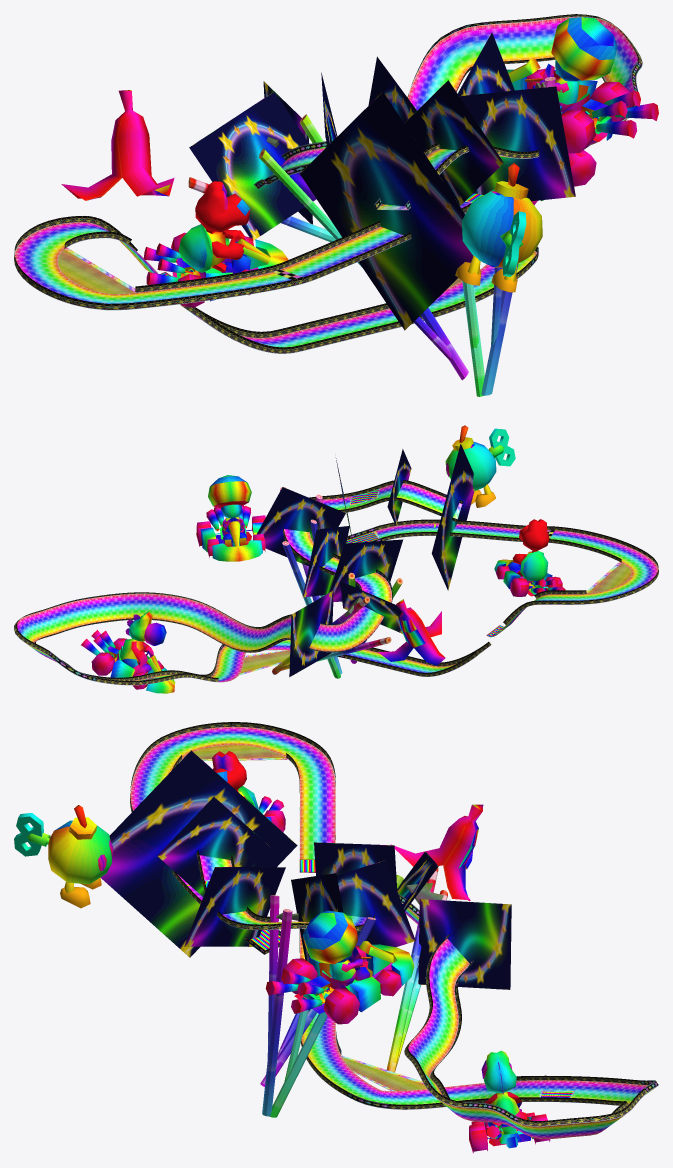
The picture shows the model from 3 angles, top to bottom: view 1: azimuth 30°, elevation 25°; view 2: azimuth 150°, elevation 25°; view 3: azimuth 270°, elevation 25°; orthographic projection. The views are drawn at different scales.
Visible parts, largest first — view 1: Plane.004_Plane.004_ring, Cube_Cube.001_road, Cube_Cube.001_saku, mb_ctk_kp.12_mb_ctk_kp.12_rbow, mb_ctn_nn2_mb_ctn_nn2_rbow, itemBombhei_ID12_itemBombhei_ID12_rbow, itemBanana_itemBanana_rbow, Cube_Cube.001_roadtransp, Cylinder.001_Cylinder.002_road, Cylinder.003_Cylinder.004_road, Cube.003_Cube.004_sand, Cylinder.002_Cylinder.003_road (+3 smaller); view 2: Plane.004_Plane.004_ring, Cube_Cube.001_road, Cube_Cube.001_saku, Cube_Cube.001_roadtransp, mb_ctk_kp.12_mb_ctk_kp.12_rbow, mb_cty.12_mb_cty.12_rbow, mb_ctn_nn2_mb_ctn_nn2_rbow, itemBombhei_ID12_itemBombhei_ID12_rbow, itemBanana_itemBanana_rbow, Cube_Cube.001_arrow, Cylinder_Cylinder_road, Cylinder.002_Cylinder.003_road (+2 smaller); view 3: Plane.004_Plane.004_ring, Cube_Cube.001_road, mb_ctk_kp.12_mb_ctk_kp.12_rbow, Cube_Cube.001_saku, itemBombhei_ID12_itemBombhei_ID12_rbow, Cube_Cube.001_roadtransp, mb_cty.12_mb_cty.12_rbow, Cylinder.003_Cylinder.004_road, itemBanana_itemBanana_rbow, Cylinder.002_Cylinder.003_road, Cylinder_Cylinder_road, mb_ctn_nn2_mb_ctn_nn2_rbow (+4 smaller).
Boxes of the visible parts, x1=… form: Plane.004_Plane.004_ring: x1=189, y1=32, x2=575, y2=330; Cube_Cube.001_road: x1=14, y1=16, x2=642, y2=353; Cube_Cube.001_saku: x1=14, y1=14, x2=642, y2=353; mb_ctk_kp.12_mb_ctk_kp.12_rbow: x1=507, y1=17, x2=658, y2=153; mb_ctn_nn2_mb_ctn_nn2_rbow: x1=143, y1=181, x2=288, y2=307; itemBombhei_ID12_itemBombhei_ID12_rbow: x1=455, y1=163, x2=542, y2=292; itemBanana_itemBanana_rbow: x1=61, y1=90, x2=174, y2=200; Cube_Cube.001_roadtransp: x1=43, y1=17, x2=569, y2=301; Cylinder.001_Cylinder.002_road: x1=259, y1=114, x2=468, y2=380; Cylinder.003_Cylinder.004_road: x1=481, y1=77, x2=555, y2=395; Cube.003_Cube.004_sand: x1=58, y1=249, x2=134, y2=294; Cylinder.002_Cylinder.003_road: x1=462, y1=213, x2=484, y2=396; Plane.004_Plane.004_ring: x1=257, y1=444, x2=474, y2=677; Cube_Cube.001_road: x1=14, y1=483, x2=658, y2=685; Cube_Cube.001_saku: x1=14, y1=480, x2=658, y2=685; Cube_Cube.001_roadtransp: x1=26, y1=523, x2=658, y2=662; mb_ctk_kp.12_mb_ctk_kp.12_rbow: x1=196, y1=475, x2=265, y2=561; mb_cty.12_mb_cty.12_rbow: x1=81, y1=611, x2=175, y2=693; mb_ctn_nn2_mb_ctn_nn2_rbow: x1=494, y1=519, x2=565, y2=596; itemBombhei_ID12_itemBombhei_ID12_rbow: x1=445, y1=425, x2=515, y2=507; itemBanana_itemBanana_rbow: x1=378, y1=599, x2=445, y2=665; Cube_Cube.001_arrow: x1=48, y1=493, x2=463, y2=681; Cylinder_Cylinder_road: x1=272, y1=596, x2=391, y2=674; Cylinder.002_Cylinder.003_road: x1=282, y1=519, x2=340, y2=678; Plane.004_Plane.004_ring: x1=100, y1=750, x2=511, y2=989; Cube_Cube.001_road: x1=130, y1=726, x2=658, y2=1138; mb_ctk_kp.12_mb_ctk_kp.12_rbow: x1=265, y1=910, x2=414, y2=1024; Cube_Cube.001_saku: x1=130, y1=722, x2=647, y2=1126; itemBombhei_ID12_itemBombhei_ID12_rbow: x1=14, y1=805, x2=113, y2=908; Cube_Cube.001_roadtransp: x1=178, y1=727, x2=625, y2=1132; mb_cty.12_mb_cty.12_rbow: x1=469, y1=1050, x2=550, y2=1153; Cylinder.003_Cylinder.004_road: x1=262, y1=895, x2=292, y2=1116; itemBanana_itemBanana_rbow: x1=390, y1=804, x2=483, y2=901; Cylinder.002_Cylinder.003_road: x1=269, y1=917, x2=376, y2=1117; Cylinder_Cylinder_road: x1=386, y1=868, x2=447, y2=1072; mb_ctn_nn2_mb_ctn_nn2_rbow: x1=212, y1=751, x2=285, y2=831.
Bounding box in the file's own units: 61942 × 27853 × 52850.
Materials: 12 (12 with a texture image).
